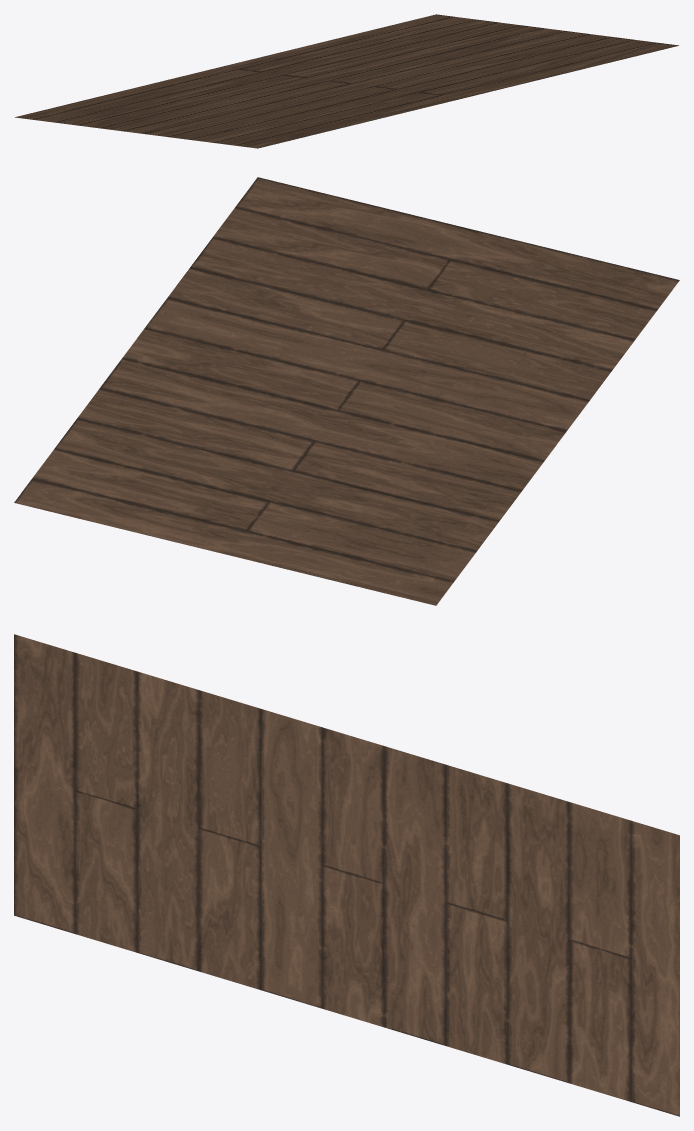
Rendered from Roof_2mH_A_Celing.fbx.
The picture shows the model from 3 angles, top to bottom: view 1: azimuth 30°, elevation 25°; view 2: azimuth 150°, elevation 25°; view 3: azimuth 270°, elevation 25°; orthographic projection. The views are drawn at different scales.
Visible parts, largest first — view 1: Roof_2mH_A_Celing; view 2: Roof_2mH_A_Celing; view 3: Roof_2mH_A_Celing.
Boxes of the visible parts, x1,y1,x2,y2 form: Roof_2mH_A_Celing: (15, 14, 678, 148); Roof_2mH_A_Celing: (14, 177, 679, 605); Roof_2mH_A_Celing: (14, 634, 679, 1116).
Size of the model in its own units: 6 by 6 by 2.
